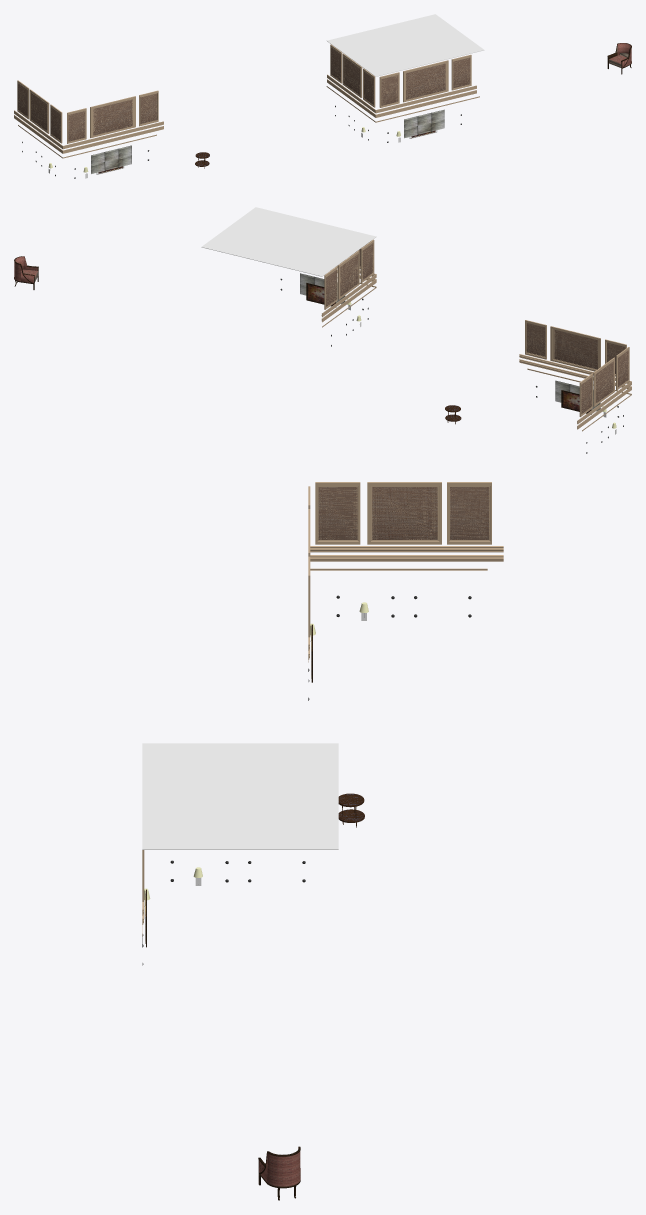
3 renders of one model, top to bottom at view 1: azimuth 30°, elevation 25°; view 2: azimuth 150°, elevation 25°; view 3: azimuth 270°, elevation 25°, orthographic. The views are drawn at different scales.
Parts seen in each view (by area): view 1: floor, PANLE_PART_1 (×6), MODLING_6_ (×2), MODLING_6__1 (×2), group_4, group_15, Component_1 (×2), group_16, group_6, group_17, group_5, group_3 (+4 smaller); view 2: floor, group_15, MODLING_6__1 (×2), Component_1 (×2), group_16, PANLE_PART_1, group_3; view 3: floor, Component_1, MODLING_6__1 (×2), group_13, group_14, PANLE_PART_1, Component_24.
Part boxes in pixels (bbox=[...]): floor: bbox=[327, 14, 484, 76]; PANLE_PART_1 (×6): bbox=[29, 53, 471, 138]; MODLING_6_ (×2): bbox=[327, 74, 476, 117]; MODLING_6__1 (×2): bbox=[14, 110, 163, 153]; group_4: bbox=[406, 63, 445, 99]; group_15: bbox=[93, 99, 132, 135]; Component_1 (×2): bbox=[31, 57, 359, 130]; group_16: bbox=[140, 93, 157, 123]; group_6: bbox=[381, 75, 398, 105]; group_17: bbox=[68, 111, 85, 141]; group_5: bbox=[453, 57, 470, 88]; group_3: bbox=[364, 72, 373, 104]; floor: bbox=[201, 207, 376, 276]; group_15: bbox=[554, 329, 597, 369]; MODLING_6__1 (×2): bbox=[519, 354, 631, 429]; Component_1 (×2): bbox=[340, 254, 613, 403]; group_16: bbox=[526, 323, 545, 356]; PANLE_PART_1: bbox=[550, 326, 600, 371]; group_3: bbox=[362, 243, 373, 279]; floor: bbox=[142, 743, 338, 849]; Component_1: bbox=[372, 487, 437, 539]; MODLING_6__1 (×2): bbox=[308, 546, 503, 659]; group_13: bbox=[450, 487, 489, 539]; group_14: bbox=[318, 487, 357, 539]; PANLE_PART_1: bbox=[367, 482, 441, 544]; Component_24: bbox=[259, 1151, 300, 1186].
Size of the model in its own units: 1138 by 317 by 193.
Materials: 16 (11 with a texture image).
